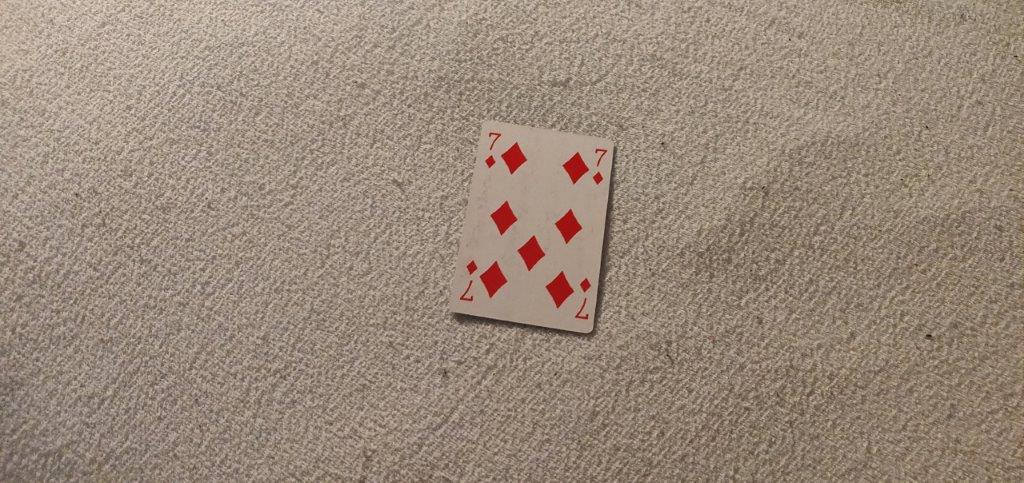7D: (484, 128, 502, 170), (591, 146, 609, 186)
